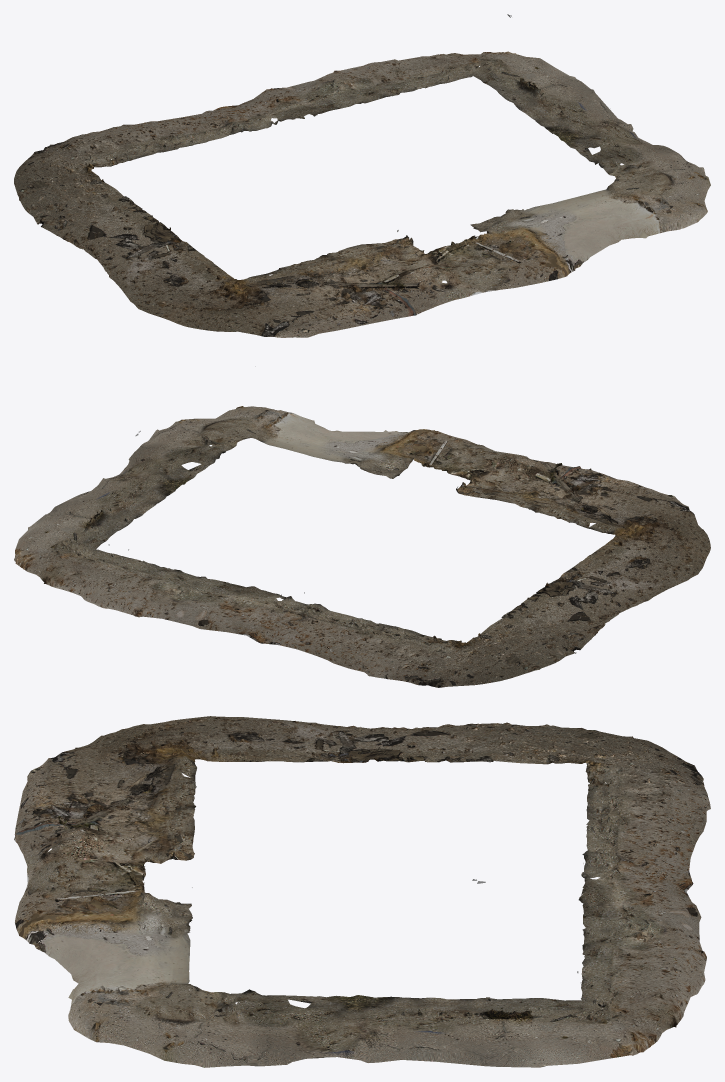
File: MOD_houseA_ground.fbx
3 renders of one model, top to bottom at view 1: azimuth 30°, elevation 25°; view 2: azimuth 150°, elevation 25°; view 3: azimuth 270°, elevation 25°, orthographic. The views are drawn at different scales.
Parts seen in each view (by area): view 1: MOD_houseA_ground; view 2: MOD_houseA_ground; view 3: MOD_houseA_ground.
Part boxes in pixels (<box>): MOD_houseA_ground: <box>14,14,710,337</box>; MOD_houseA_ground: <box>14,366,710,687</box>; MOD_houseA_ground: <box>14,716,710,1067</box>.
Size of the model in its own units: 1739 by 314 by 1444.
1 material, 1 textured.
